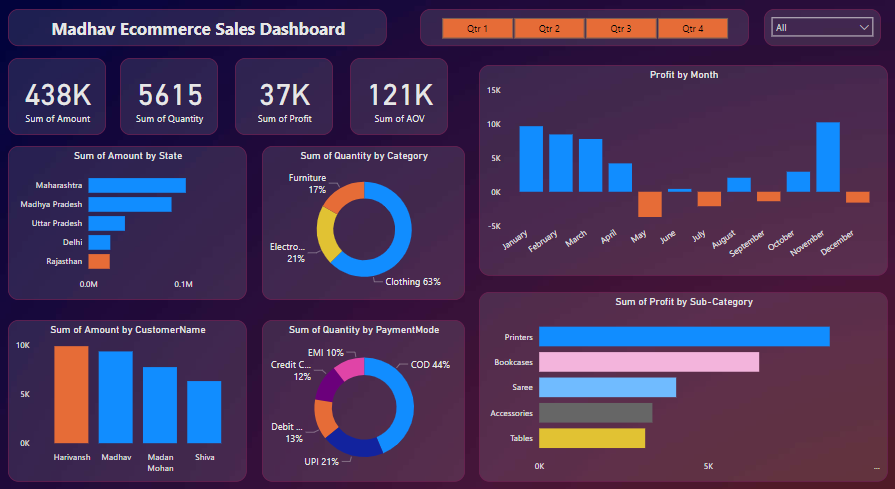

The dashboard page shown, as its layout file describes it:
{"tool":"powerbi","page":{"name":"Page 1","canvas":[1280,720],"ordinal":0},"visuals":[{"type":"textbox","box":[11.4,12.9,541.4,52.9],"z":0},{"type":"columnChart","title":"Profit by Month","fields":{"Category":["Orders.Order Date.Variation.Date Hierarchy.Month"],"Y":["Details.Profit"]},"box":[684.3,92.9,584.3,301.4],"z":1000},{"type":"barChart","fields":{"Category":["Details.Sub-Category"],"Y":["Details.Profit"]},"box":[684.3,417.1,584.3,271.4],"z":2000},{"type":"donutChart","fields":{"Category":["Details.Category"],"Y":["Details.Quantity"]},"box":[374.3,208.6,290,220],"z":3000},{"type":"donutChart","fields":{"Y":["Details.Quantity"],"Category":["Details.PaymentMode"]},"box":[374.3,457.1,290,231.4],"z":4000},{"type":"card","fields":{"Values":["Details.Amount"]},"box":[11.4,82.9,140,110],"z":5000},{"type":"card","fields":{"Values":["Details.Quantity"]},"box":[171.4,82.9,140,110],"z":6000},{"type":"card","fields":{"Values":["Details.Profit"]},"box":[335.7,82.9,140,110],"z":7000},{"type":"card","fields":{"Values":["Details.AOV"]},"box":[500,82.9,140,110],"z":8000},{"type":"barChart","fields":{"Category":["Orders.State"],"Y":["Details.Amount"]},"box":[11.4,208.6,341.4,220],"z":9000},{"type":"columnChart","fields":{"Category":["Orders.CustomerName"],"Y":["Details.Amount"]},"box":[11,457,341,231],"z":10000},{"type":"slicer","fields":{"Values":["Orders.Order Date.Variation.Date Hierarchy.Quarter"]},"box":[600,12.9,470,52.9],"z":11000},{"type":"slicer","fields":{"Values":["Orders.State"]},"box":[1091.4,12.9,167.1,52.9],"z":11001}]}

Visuals, with their boxes in screenshot pixels (x1, y1, x2, y2), scaled from the page's 1280x720 canvas onto the 895x489 screenshot:
textbox: [8,9,387,45]
"Profit by Month" columnChart: [478,63,887,268]
barChart - Details.Sub-Category x Details.Profit: [478,283,887,468]
donutChart - Details.Category x Details.Quantity: [262,142,464,291]
donutChart - Details.Quantity x Details.PaymentMode: [262,310,464,468]
card - Details.Amount: [8,56,106,131]
card - Details.Quantity: [120,56,218,131]
card - Details.Profit: [235,56,333,131]
card - Details.AOV: [350,56,448,131]
barChart - Orders.State x Details.Amount: [8,142,247,291]
columnChart - Orders.CustomerName x Details.Amount: [8,310,246,467]
slicer - Orders.Order Date.Variation.Date Hierarchy.Quarter: [420,9,748,45]
slicer - Orders.State: [763,9,880,45]
